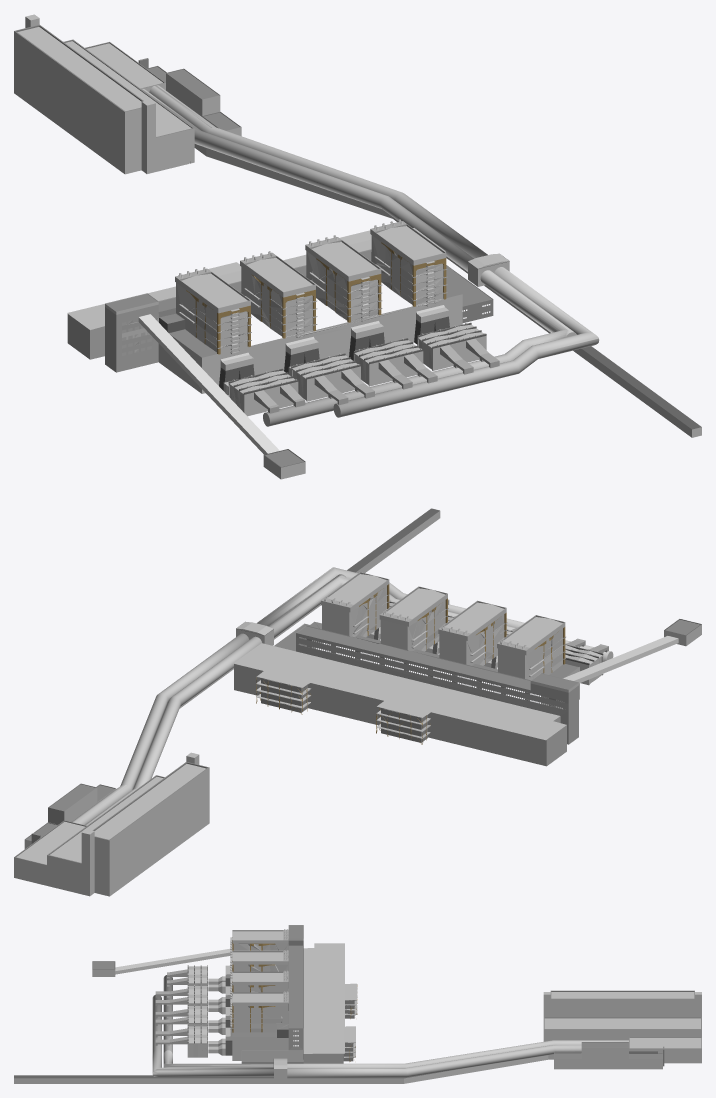
File: kraftwerk-jaenschwalde_LOD01.gltf
3 views of the same model, one above another, from view 1: azimuth 30°, elevation 25°; view 2: azimuth 150°, elevation 25°; view 3: azimuth 270°, elevation 25° (orthographic). The views are drawn at different scales.
Parts seen in each view (by area): view 1: building.002, long pipes.002, pipe connections.002; view 2: building.002, long pipes.002; view 3: long pipes.002, building.002, pipe connections.002.
Part boxes in pixels (x1,y1,x2,y2): building.002: (67, 219, 493, 416); long pipes.002: (14, 14, 701, 479); pipe connections.002: (223, 328, 499, 413); building.002: (233, 572, 603, 766); long pipes.002: (14, 508, 701, 896); long pipes.002: (14, 948, 701, 1083); building.002: (187, 925, 357, 1063); pipe connections.002: (155, 969, 225, 1055).
Bounding box in the file's own units: 275 × 57.18 × 647.
